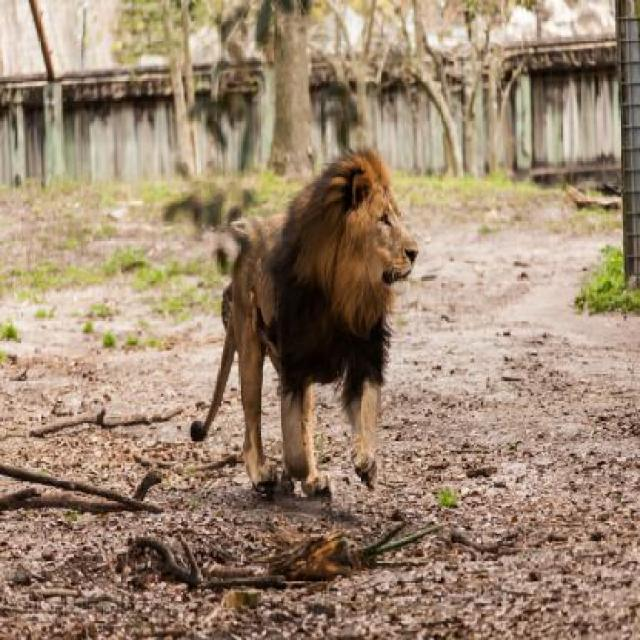Lion: (162, 147, 426, 516)
